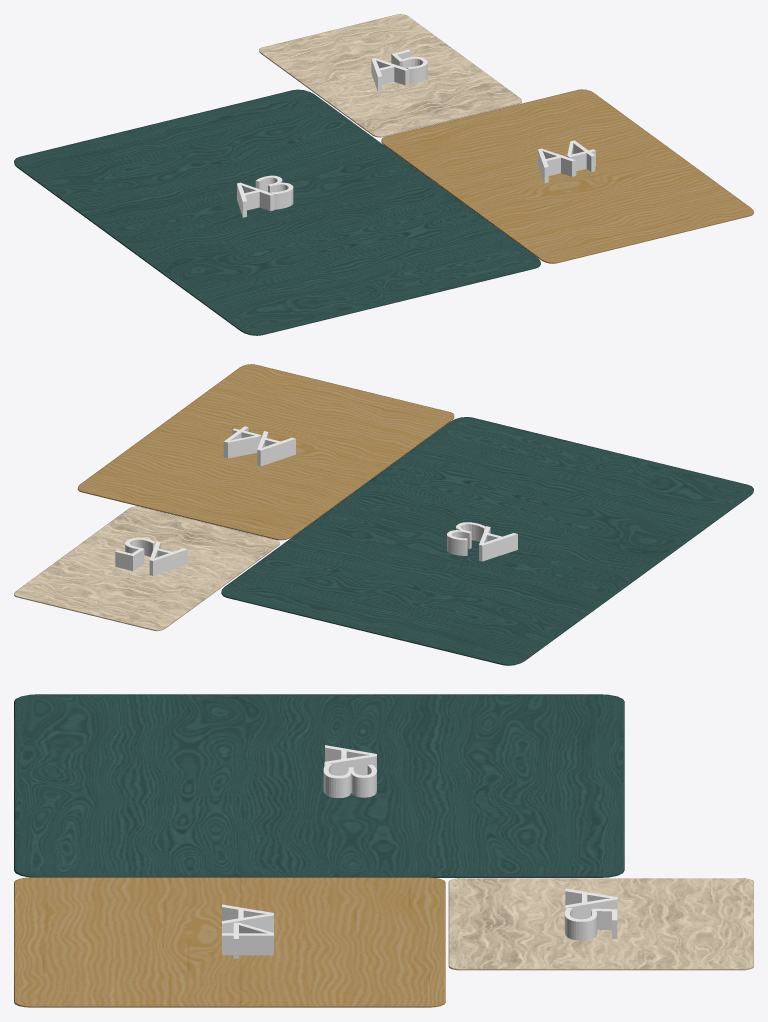
Rendered from PaperSize.gltf.
3 renders of one model, top to bottom at view 1: azimuth 30°, elevation 25°; view 2: azimuth 150°, elevation 25°; view 3: azimuth 270°, elevation 25°, orthographic. The views are drawn at different scales.
Visible parts, largest first — view 1: Box 1, Box, Box 2, 3D Text - A, 3D Text 1 - A, 3D Text 2 - A, 3D Text 1 - 3, 3D Text 2 - 5, 3D Text - 4; view 2: Box 1, Box, Box 2, 3D Text 2 - 5, 3D Text 1 - 3, 3D Text - A, 3D Text 1 - A, 3D Text - 4, 3D Text 2 - A; view 3: Box 1, Box, Box 2, 3D Text - 4, 3D Text 1 - 3, 3D Text 2 - 5, 3D Text 1 - A, 3D Text - A, 3D Text 2 - A.
Boxes of the visible parts, x1,y1,x2,y2 form: Box 1: (14, 89, 540, 335); Box: (381, 89, 753, 263); Box 2: (259, 14, 521, 137); 3D Text - A: (538, 148, 576, 183); 3D Text 1 - A: (237, 182, 274, 217); 3D Text 2 - A: (371, 58, 409, 91); 3D Text 1 - 3: (255, 175, 293, 209); 3D Text 2 - 5: (391, 49, 427, 83); 3D Text - 4: (567, 140, 595, 171); Box 1: (221, 417, 753, 665); Box: (77, 364, 454, 540); Box 2: (14, 506, 279, 631); 3D Text 2 - 5: (115, 537, 155, 570); 3D Text 1 - 3: (447, 522, 485, 555); 3D Text - A: (257, 431, 295, 466); 3D Text 1 - A: (479, 526, 517, 561); 3D Text - 4: (223, 426, 261, 458); 3D Text 2 - A: (149, 541, 188, 575); Box 1: (14, 694, 624, 877); Box: (14, 877, 445, 1007); Box 2: (448, 878, 753, 970); 3D Text - 4: (222, 922, 273, 958); 3D Text 1 - 3: (323, 764, 376, 797); 3D Text 2 - 5: (564, 908, 617, 940); 3D Text 1 - A: (324, 745, 376, 775); 3D Text - A: (222, 904, 273, 933); 3D Text 2 - A: (565, 888, 617, 919).
Size of the model in its own units: 0.5081 by 0.0172 by 0.509.
6 materials, 3 textured.
